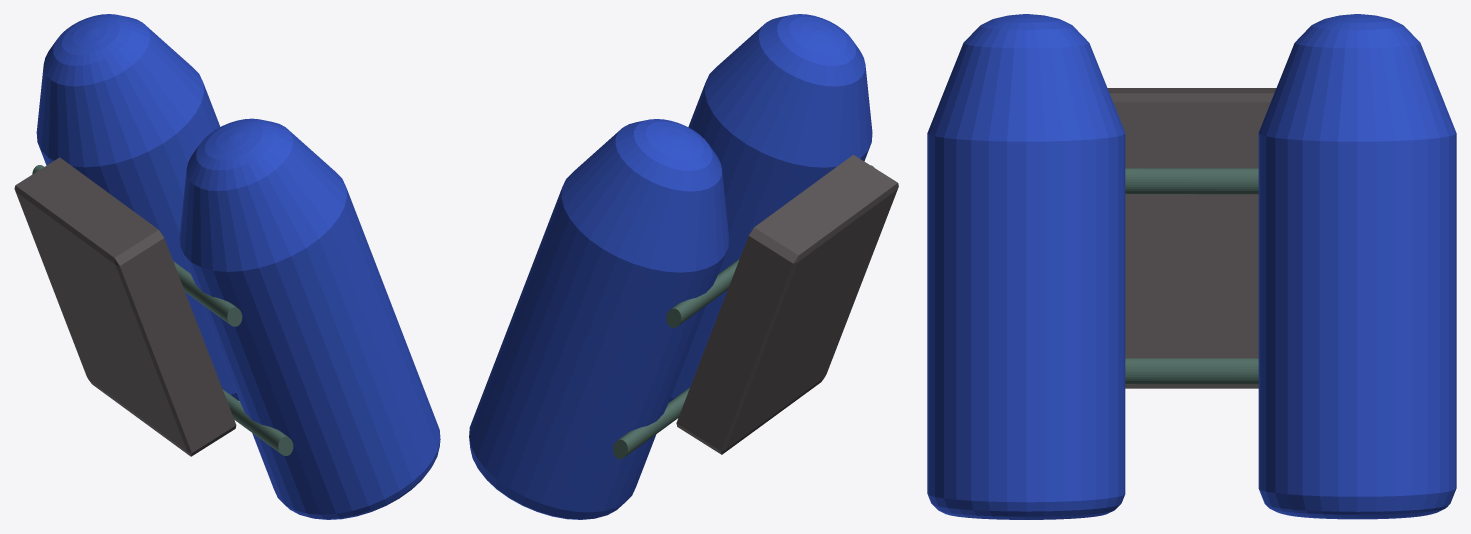
The model's file is oxygen.fbx.
3 views of the same model, side by side, from view 1: azimuth 30°, elevation 25°; view 2: azimuth 150°, elevation 25°; view 3: azimuth 270°, elevation 25° (orthographic). The views are drawn at different scales.
Visible parts, largest first — view 1: Cylinder, Cube, Cylinder.001, Cylinder.002; view 2: Cylinder, Cube, Cylinder.002, Cylinder.001; view 3: Cylinder, Cube, Cylinder.001, Cylinder.002.
Part boxes in pixels (x1=…): Cylinder: x1=36, y1=14, x2=440, y2=519; Cube: x1=14, y1=157, x2=236, y2=456; Cylinder.001: x1=32, y1=165, x2=242, y2=326; Cylinder.002: x1=222, y1=389, x2=293, y2=455; Cylinder: x1=469, y1=14, x2=872, y2=519; Cube: x1=676, y1=155, x2=898, y2=454; Cylinder.002: x1=613, y1=387, x2=689, y2=458; Cylinder.001: x1=666, y1=165, x2=874, y2=327; Cylinder: x1=927, y1=14, x2=1456, y2=519; Cube: x1=1107, y1=88, x2=1276, y2=388; Cylinder.001: x1=1125, y1=168, x2=1258, y2=194; Cylinder.002: x1=1125, y1=358, x2=1258, y2=384.
Bounding box in the file's own units: 99.4 × 128 × 134.
